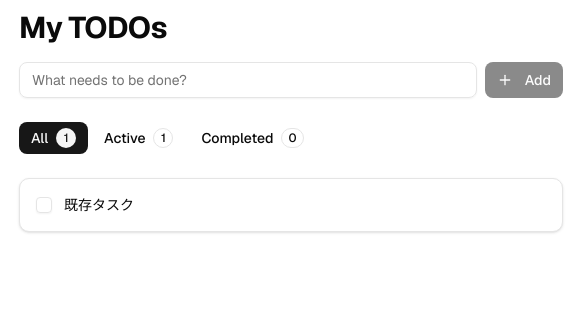
it: TodoPage — TODO 追加 › 追加した TODO はリストの先頭に表示される
Check: the text "既存タスク" is shown, box left=64, top=196, right=134, bottom=214
Step 1. Type "新しいタスク" into the field with placeholder "What needs to be done?" → (248, 80), box left=19, top=62, right=477, bottom=98
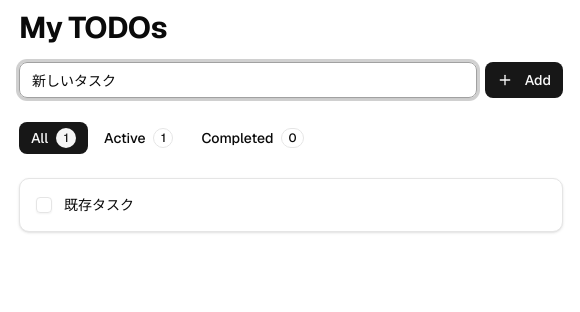
Step 2. Click the button "Add" → (524, 80), box left=485, top=62, right=563, bottom=98
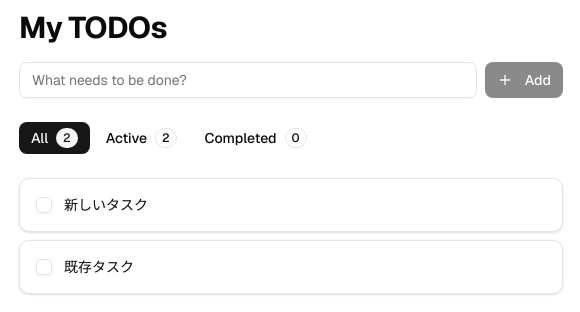
Check: the text "既存タスク" is shown, box left=64, top=258, right=134, bottom=276
Check: the text "新しいタスク" is shown, box left=64, top=196, right=148, bottom=214
